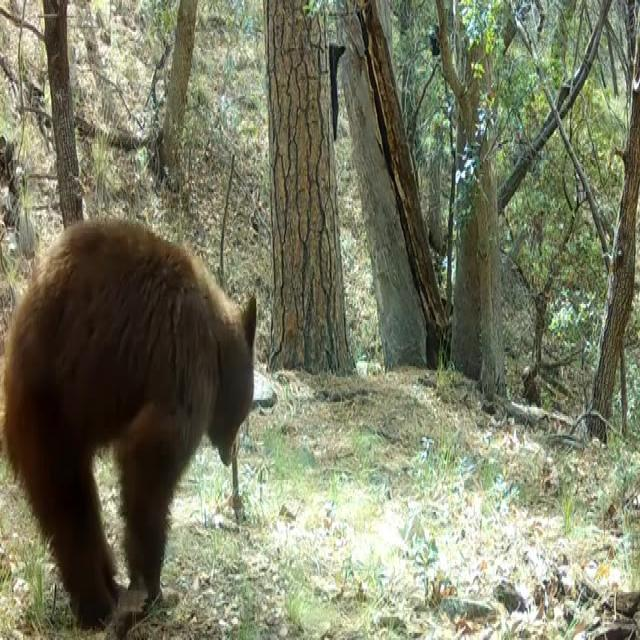bear face: (1, 220, 257, 621), (328, 40, 346, 140)
